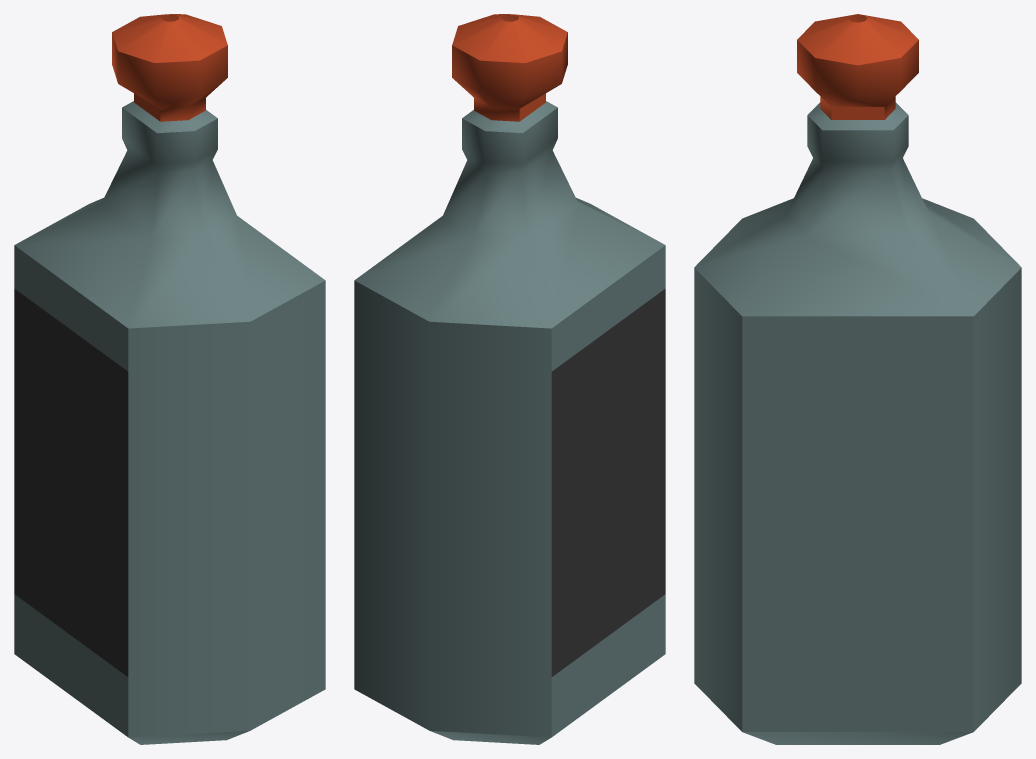
Rendered from ME_SE_Bottle03.fbx.
3 views of the same model, side by side, from view 1: azimuth 30°, elevation 25°; view 2: azimuth 150°, elevation 25°; view 3: azimuth 270°, elevation 25° (orthographic).
Parts seen in each view (by area): view 1: ME_SE_Bottle03; view 2: ME_SE_Bottle03; view 3: ME_SE_Bottle03.
Boxes of the visible parts, bbox=[...] form: ME_SE_Bottle03: bbox=[14, 14, 325, 744]; ME_SE_Bottle03: bbox=[354, 14, 665, 744]; ME_SE_Bottle03: bbox=[694, 14, 1021, 744].
Size of the model in its own units: 1968 by 6484 by 2782.
